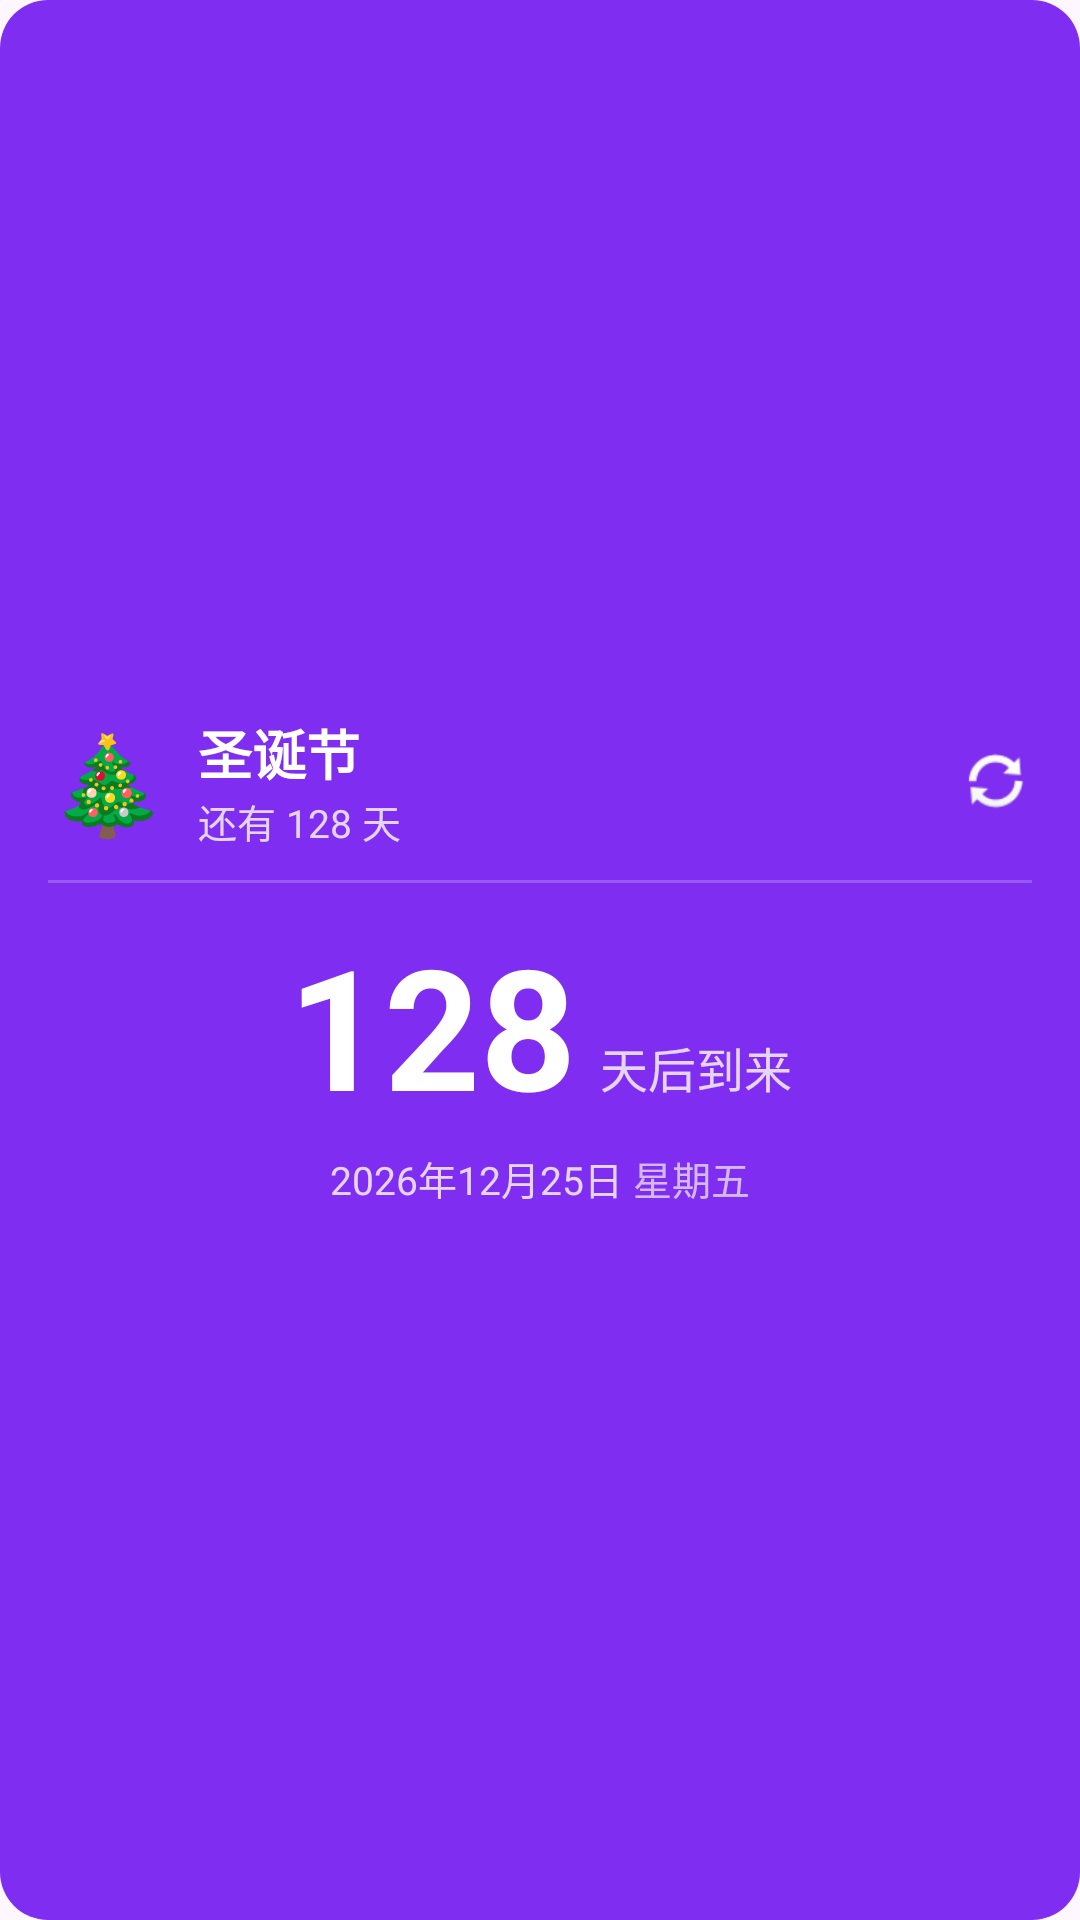

Named icons in this screenshot (1080 × 1920) and their bounding boxes, (x1, y1, x2, y2):
刷新: (968, 754, 1023, 808)
